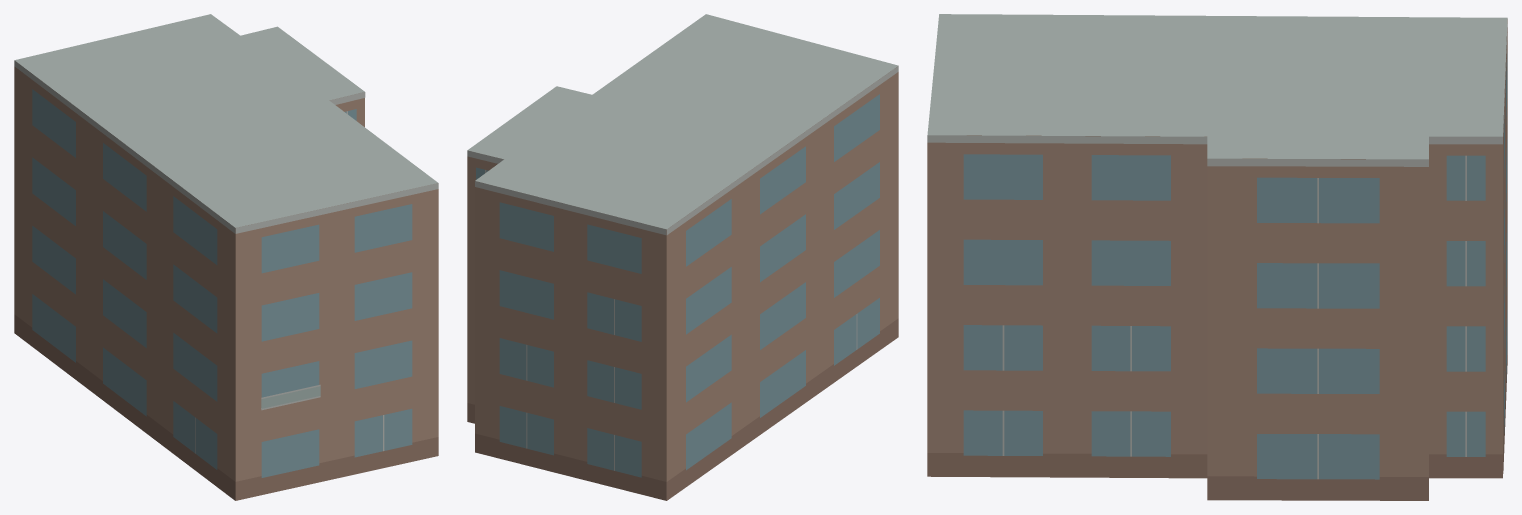
Rendered from survey-upis-32761515.glb.
3 renders of one model, left to right at view 1: azimuth 30°, elevation 25°; view 2: azimuth 150°, elevation 25°; view 3: azimuth 270°, elevation 25°, orthographic. The views are drawn at different scales.
Visible parts, largest first — view 1: survey-upis-32761515.tmp; view 2: survey-upis-32761515.tmp; view 3: survey-upis-32761515.tmp.
Boxes of the visible parts, x1=… form: survey-upis-32761515.tmp: x1=14, y1=14, x2=438, y2=500; survey-upis-32761515.tmp: x1=467, y1=14, x2=898, y2=500; survey-upis-32761515.tmp: x1=927, y1=14, x2=1507, y2=500.
Bounding box in the file's own units: 10.05 × 11 × 16.94.
